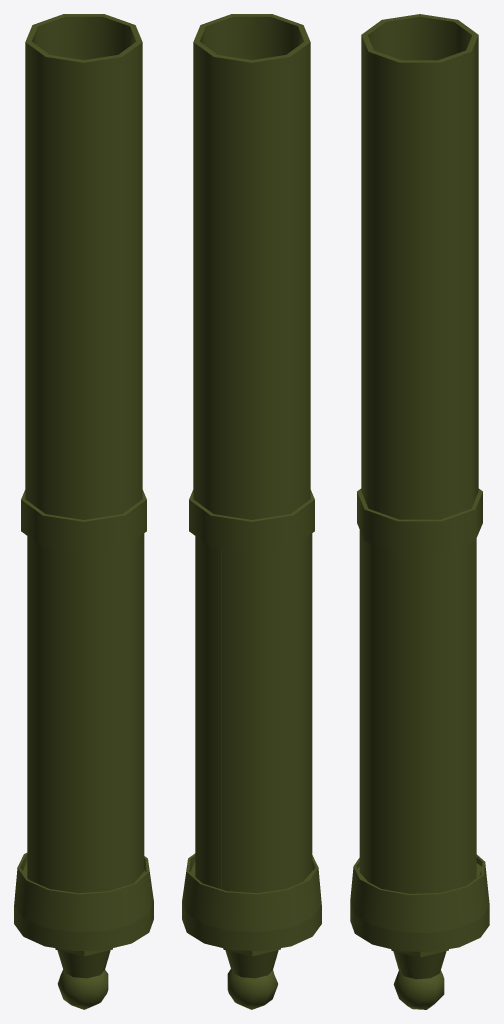
Rendered from CumThanSung.glb.
The picture shows the model from 3 angles, left to right: view 1: azimuth 30°, elevation 25°; view 2: azimuth 150°, elevation 25°; view 3: azimuth 330°, elevation 25°; orthographic projection.
Visible parts, largest first — view 1: Cum than sung; view 2: Cum than sung; view 3: Cum than sung.
Part boxes in pixels (x1,y1,x2,y2): Cum than sung: (14,14,153,1009); Cum than sung: (182,14,321,1009); Cum than sung: (350,14,489,1009).
Size of the model in its own units: 8 by 61 by 7.8.
